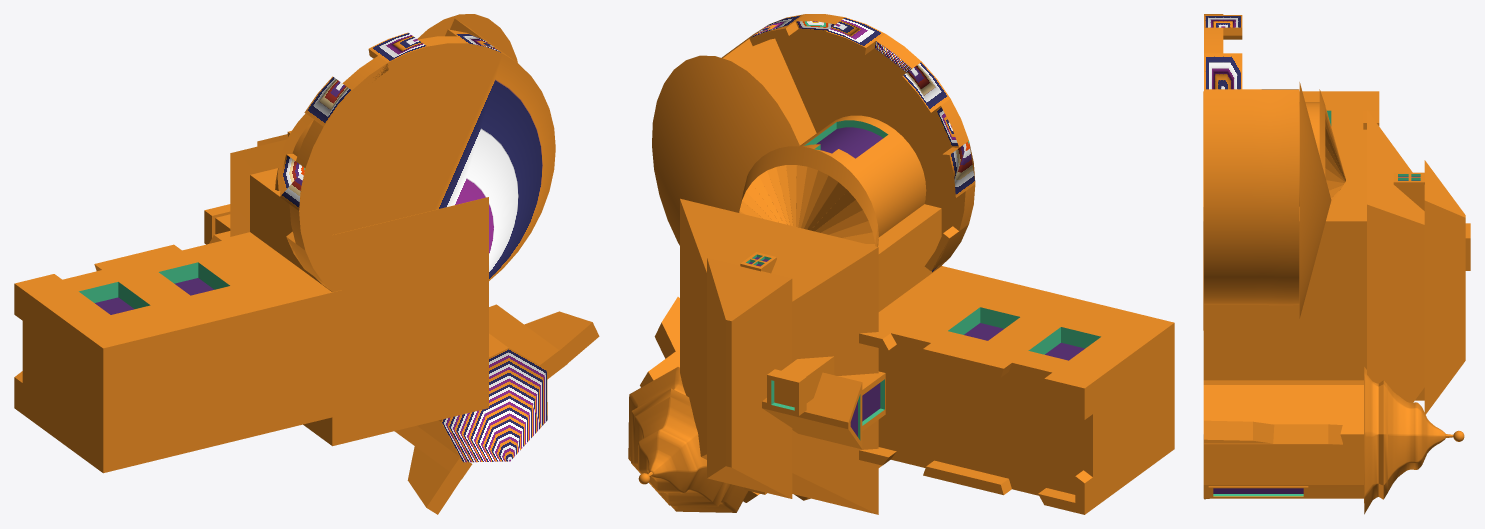
File: drukarnia trebinskich.obj
3 views of the same model, side by side, from view 1: azimuth 30°, elevation 25°; view 2: azimuth 150°, elevation 25°; view 3: azimuth 270°, elevation 25° (orthographic). The views are drawn at different scales.
Parts seen in each view (by area): view 1: duzy_dom_Cube.001; view 2: duzy_dom_Cube.001; view 3: duzy_dom_Cube.001.
Boxes of the visible parts, x1=… form: duzy_dom_Cube.001: x1=14, y1=14, x2=599, y2=514; duzy_dom_Cube.001: x1=628, y1=14, x2=1174, y2=514; duzy_dom_Cube.001: x1=1203, y1=14, x2=1470, y2=514.
Size of the model in its own units: 39.07 by 35.39 by 18.36.
